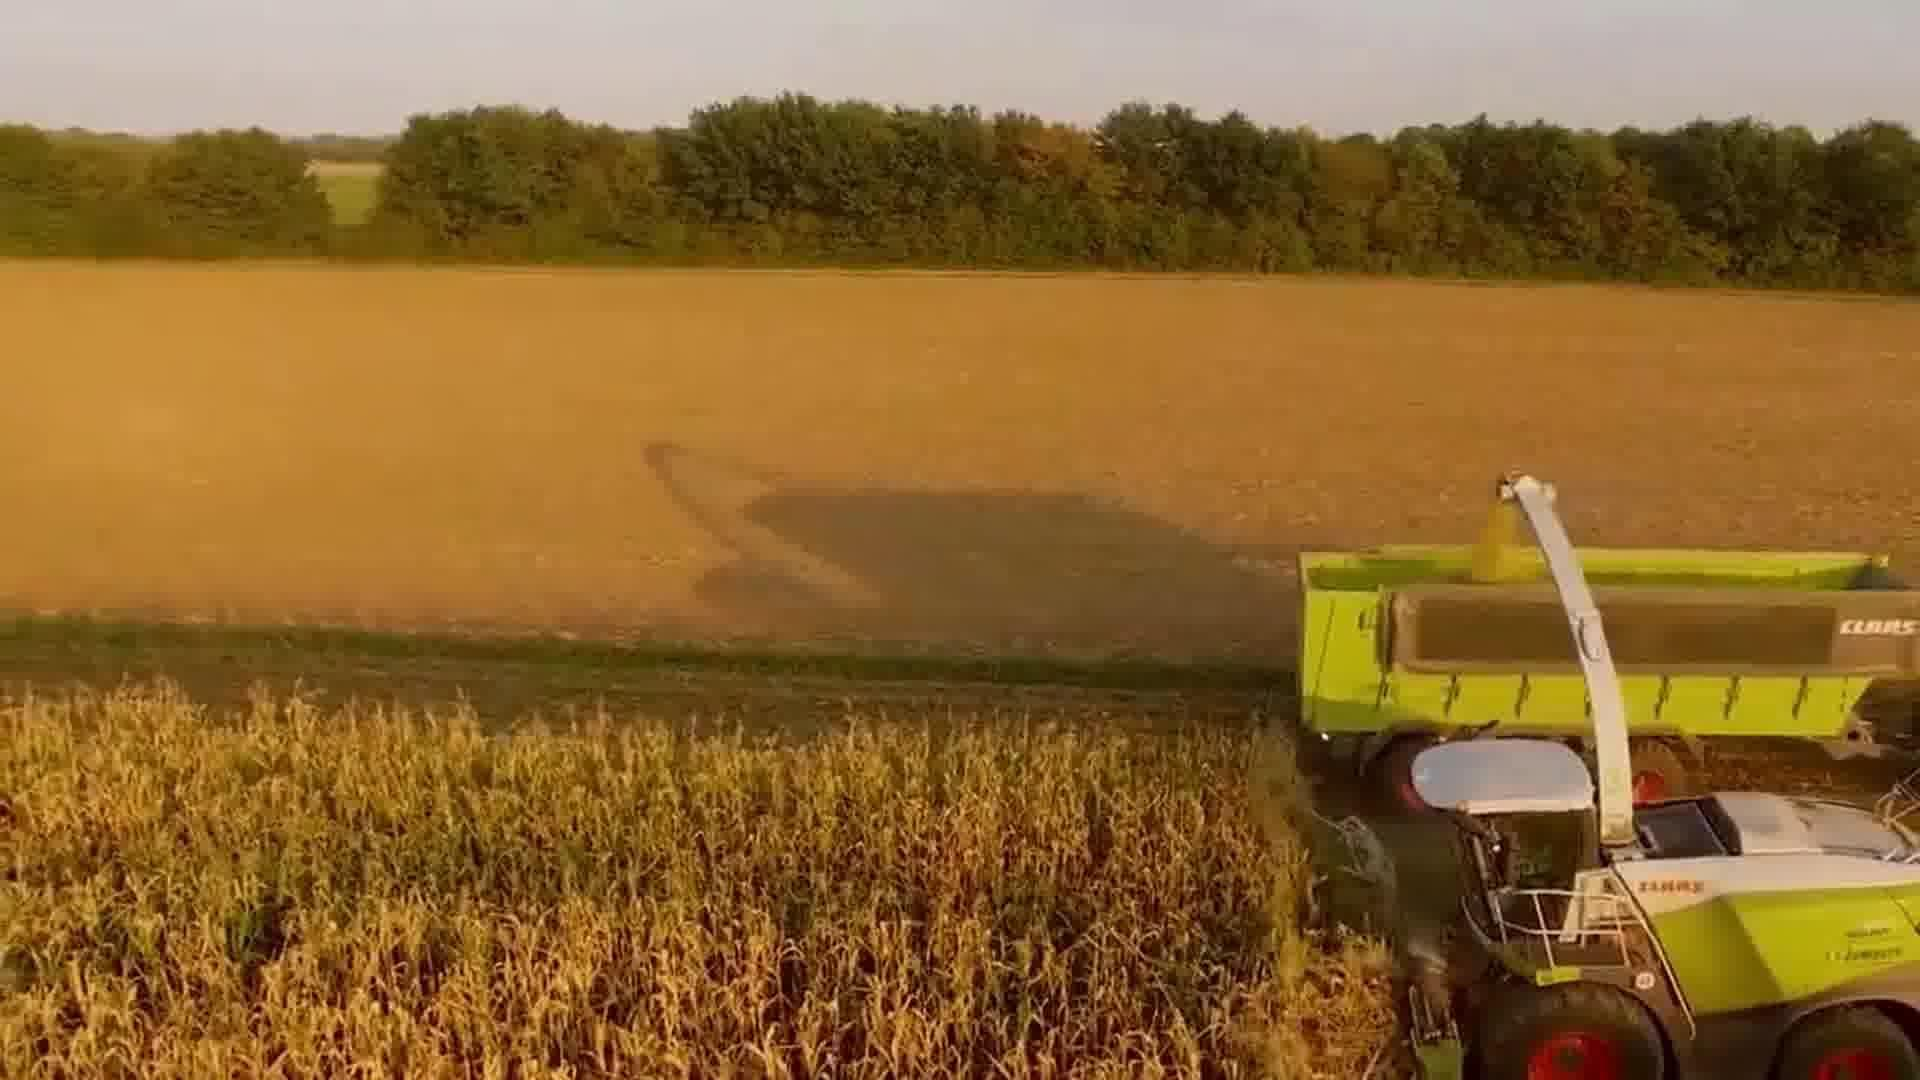combine harvester: (1288, 454, 1920, 1077)
trailer: (1288, 529, 1920, 814)
